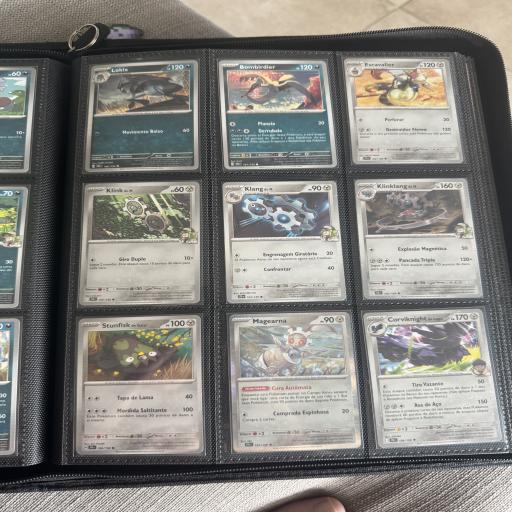card: (363, 299, 503, 455), (229, 311, 361, 453), (75, 314, 205, 456), (353, 169, 483, 308), (222, 177, 347, 305), (79, 181, 200, 306), (343, 49, 464, 173), (218, 54, 338, 173), (84, 60, 199, 172)
